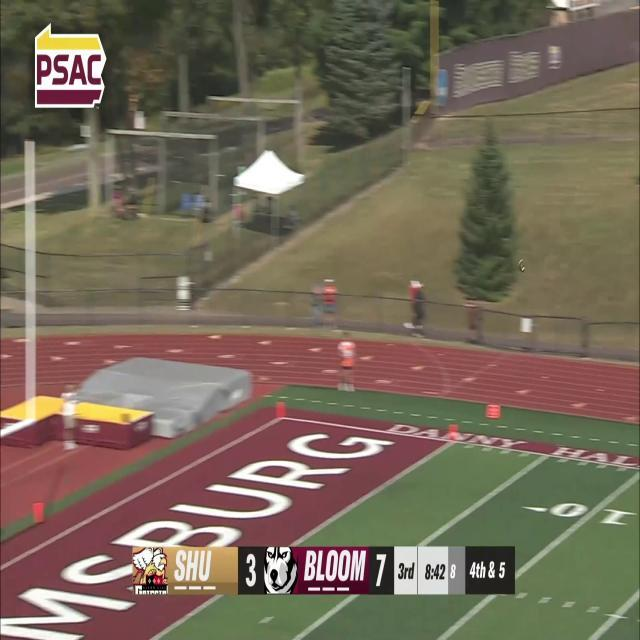football: (517, 258, 527, 274)
